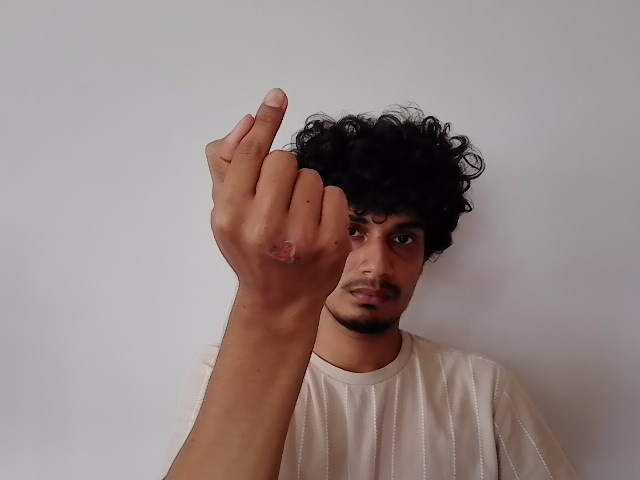just: (205, 86, 354, 295)
